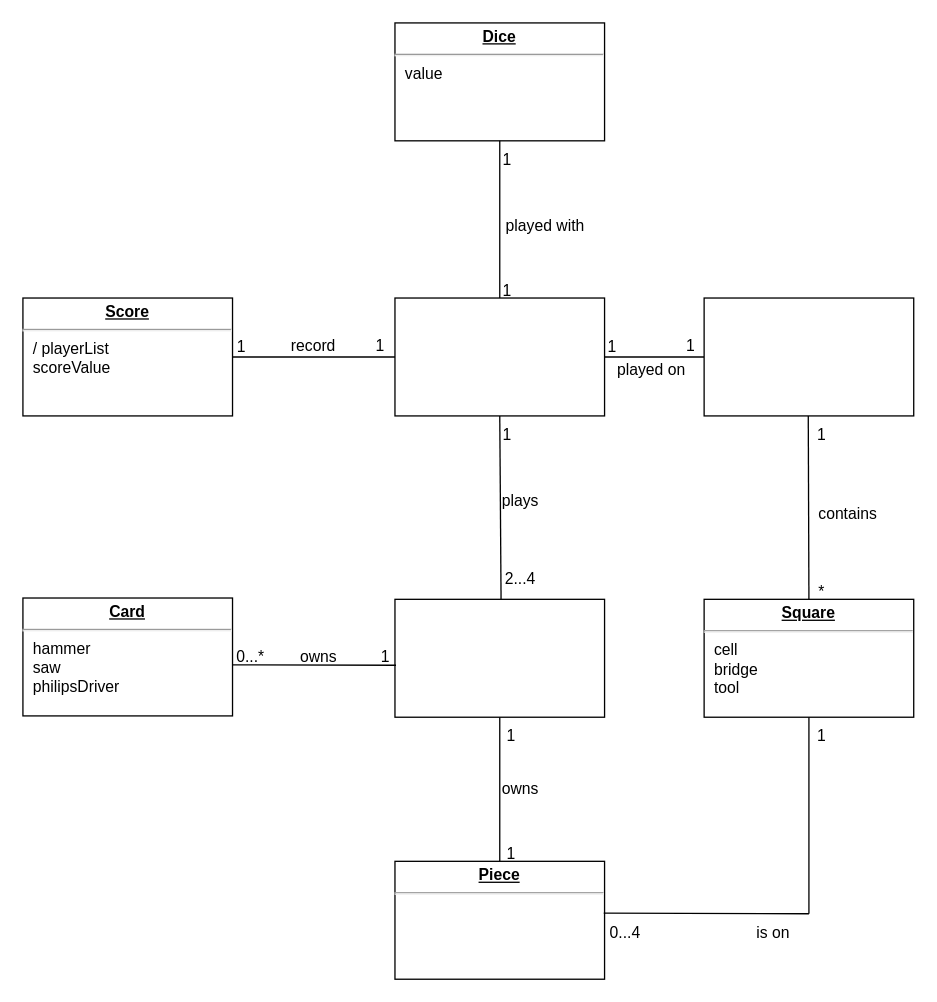
This 937x1002 diagram has some shape labels left out. The shapes that lost their labels are listed below. From the top down, each one's centre as x and y in pixels, then its label:
At [499,356]: "Bridge Game".
At [808,356]: "Map row column".
At [499,657]: "Player name".
